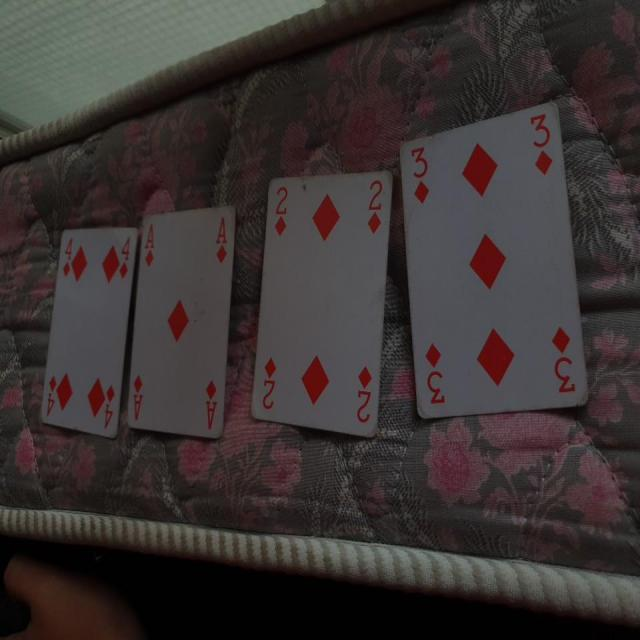2 Diamonds: (250, 169, 399, 444)
3 Diamonds: (397, 102, 590, 422)
4 Diamonds: (36, 222, 140, 446)
A Diamonds: (123, 204, 243, 444)
